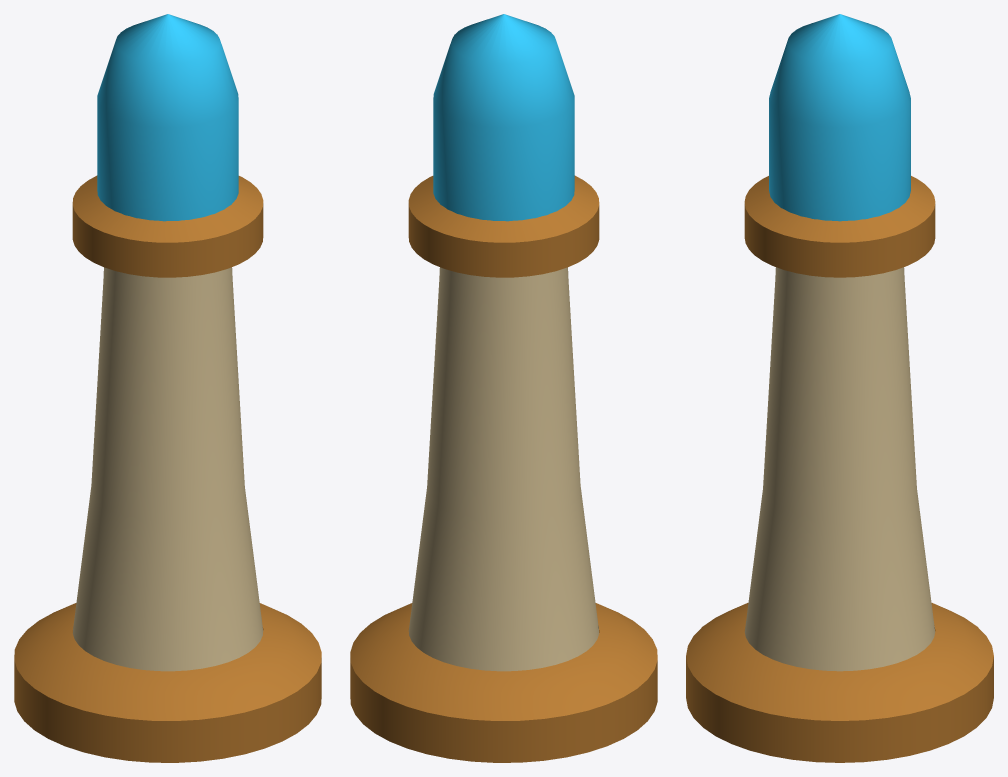
File: beacon.dae
The picture shows the model from 3 angles, left to right: view 1: azimuth 30°, elevation 25°; view 2: azimuth 150°, elevation 25°; view 3: azimuth 270°, elevation 25°; orthographic projection.
Parts seen in each view (by area): view 1: enamel, accent, jewel; view 2: enamel, accent, jewel; view 3: enamel, accent, jewel.
Boxes of the visible parts, box(x1,y1,x2,y2) form: enamel: box(72, 267, 263, 671); accent: box(14, 175, 321, 762); jewel: box(97, 14, 238, 221); enamel: box(408, 267, 599, 671); accent: box(350, 175, 657, 762); jewel: box(433, 14, 574, 221); enamel: box(744, 267, 935, 671); accent: box(686, 176, 993, 762); jewel: box(769, 14, 910, 221).
Bounding box in the file's own units: 2 × 4.9 × 2.
